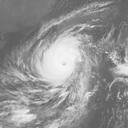cyclone: (33, 35, 91, 87)
